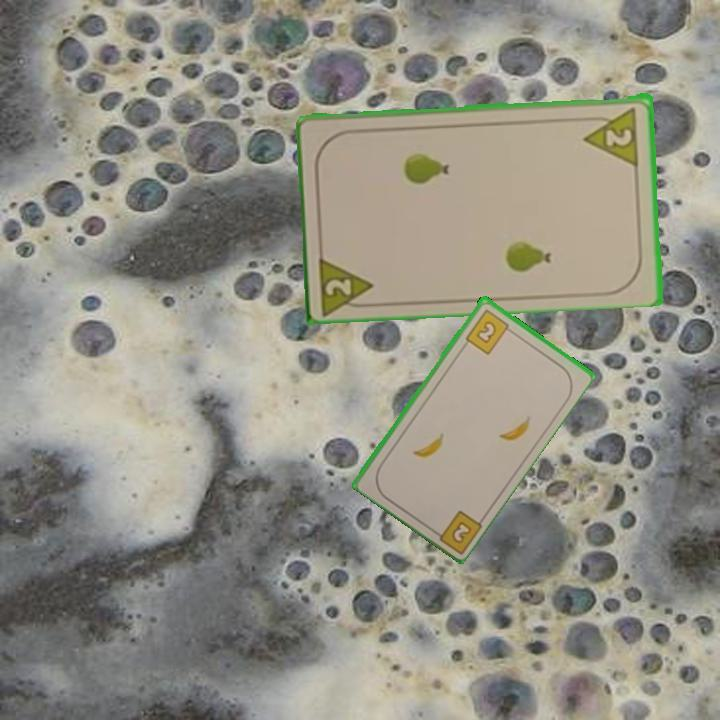2b: (461, 305, 516, 357), (427, 506, 485, 555)
2p: (315, 250, 379, 315), (580, 103, 642, 166)
